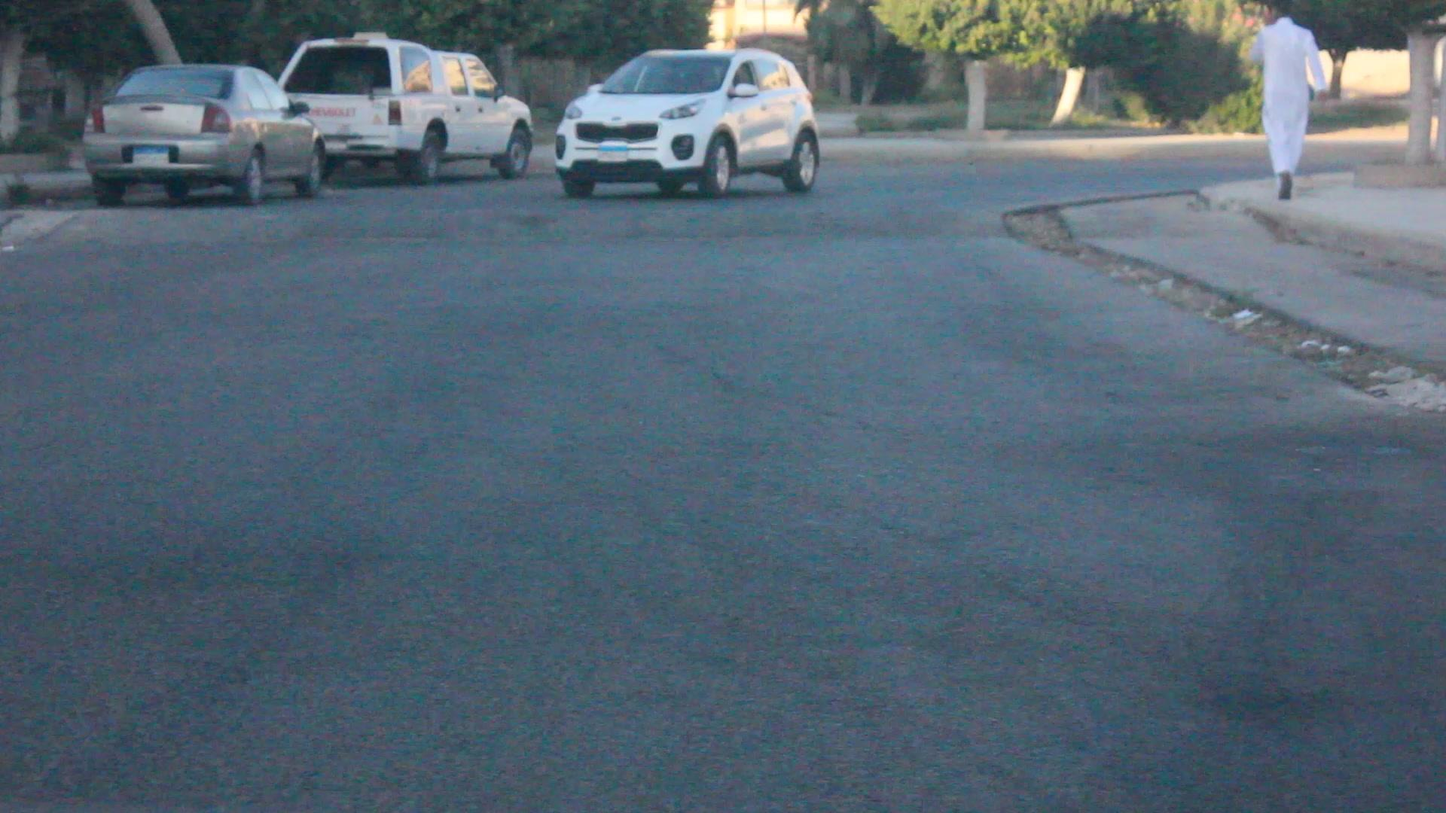Bump: (11, 201, 1013, 241)
